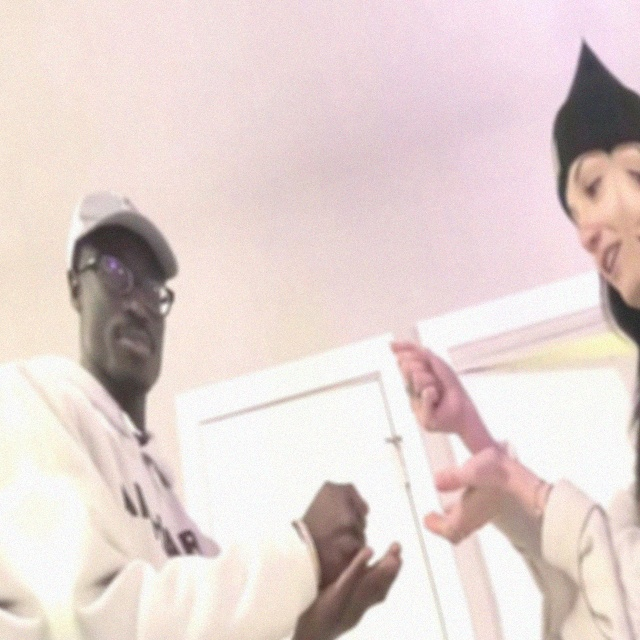Rock: (388, 328, 473, 447), (301, 471, 383, 585)
